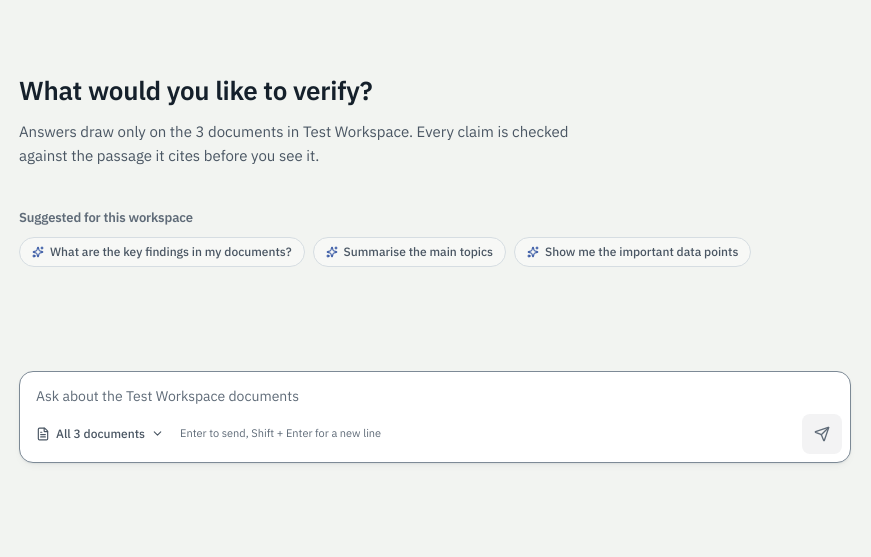
Test case: ChatPage › says "Guardrail failed" instead of "Answer verified" when the guardrail did not pass (BUG-6)
Type "Emissions this year?" into the text box named "Ask a question about this workspace".
click(435, 391); type("Emissions this year?")  # box [20, 372, 850, 410]
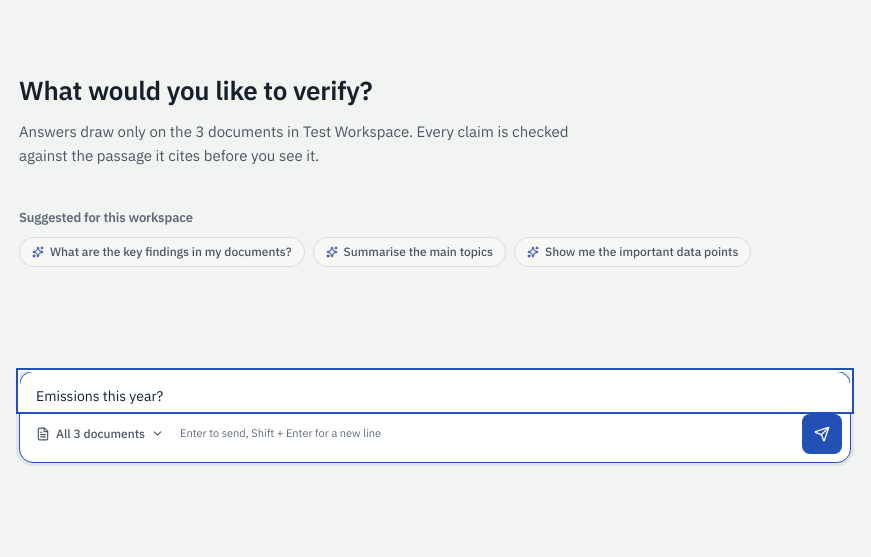
Press Enter
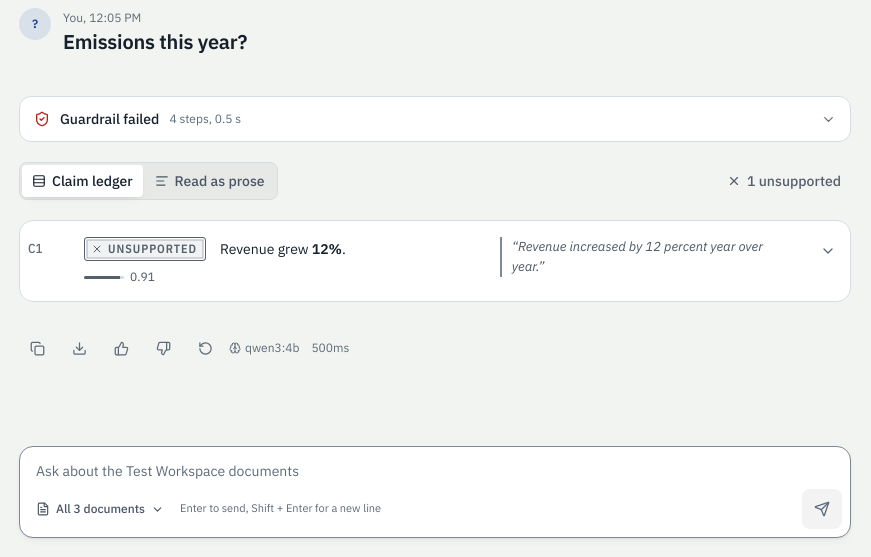
expect the text "Guardrail failed" is shown: met, box [60, 109, 159, 129]
